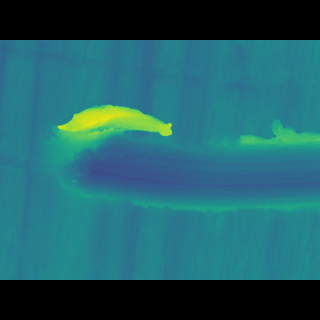Loch: (42, 116, 320, 201)
